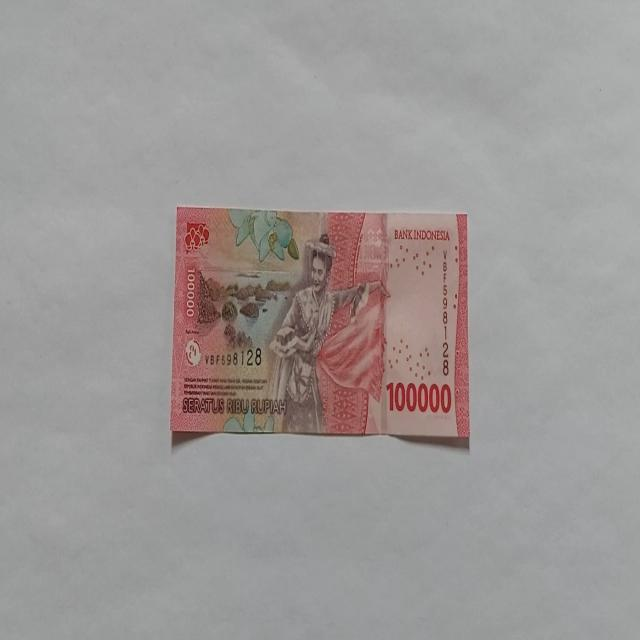seratus ribu rupiah: (170, 206, 470, 444), (266, 232, 372, 433)
